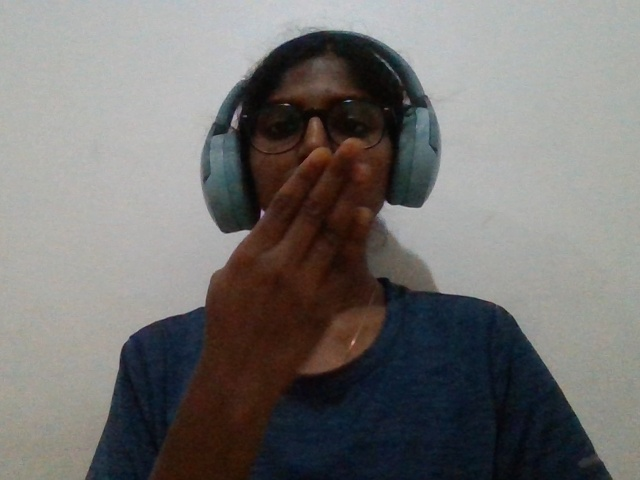Thanks: (193, 128, 419, 382)
